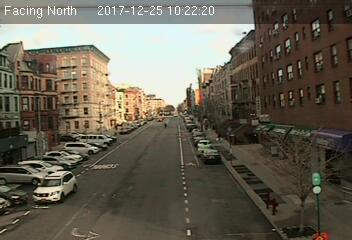car: (30, 170, 79, 204), (202, 150, 223, 165)
